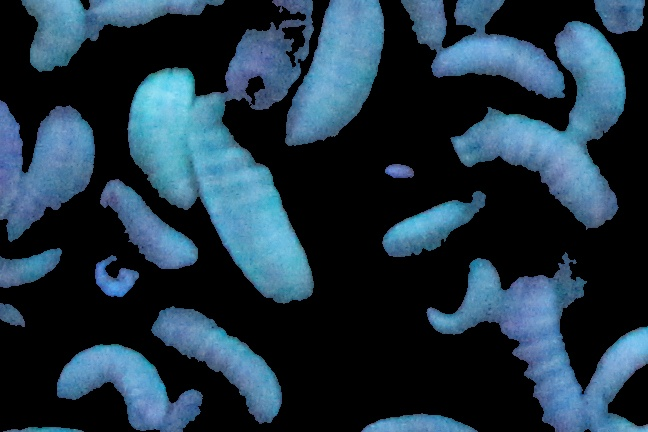larvae: (178, 82, 324, 313), (464, 112, 620, 225), (153, 296, 282, 423), (276, 1, 383, 146), (498, 269, 583, 425), (92, 175, 207, 275), (120, 63, 196, 205), (376, 181, 497, 265), (23, 95, 92, 241), (417, 250, 507, 360), (58, 342, 170, 425), (555, 18, 628, 143), (429, 36, 562, 97), (585, 322, 648, 426), (22, 1, 87, 70), (1, 246, 60, 282)
